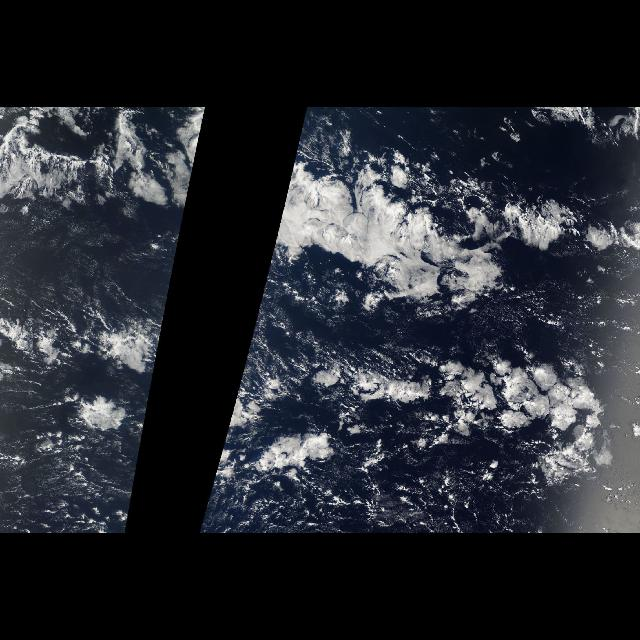Flower: (316, 364, 622, 476)
Sugar: (15, 188, 162, 310)
